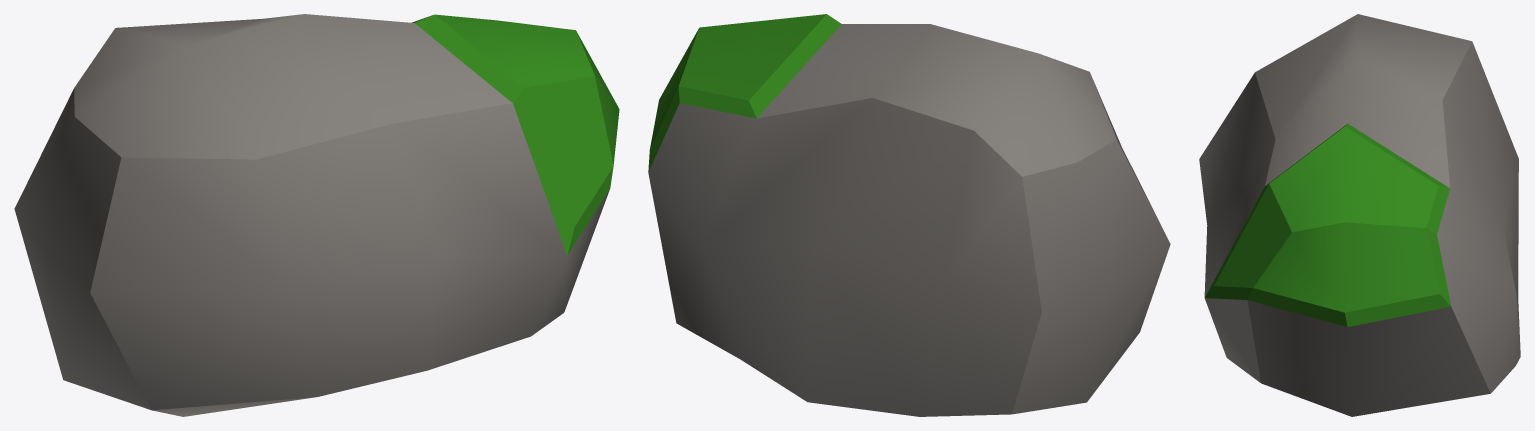
The model's file is Stone_03.fbx.
The picture shows the model from 3 angles, left to right: view 1: azimuth 30°, elevation 25°; view 2: azimuth 150°, elevation 25°; view 3: azimuth 270°, elevation 25°; orthographic projection. The views are drawn at different scales.
Visible parts, largest first — view 1: Stone_003; view 2: Stone_003; view 3: Stone_003.
Part boxes in pixels (x1,y1,x2,y2): Stone_003: [14, 14, 619, 416]; Stone_003: [648, 14, 1170, 416]; Stone_003: [1199, 14, 1520, 416].
Size of the model in its own units: 76.06 by 48.53 by 47.87.
Materials: 1 (1 with a texture image).
